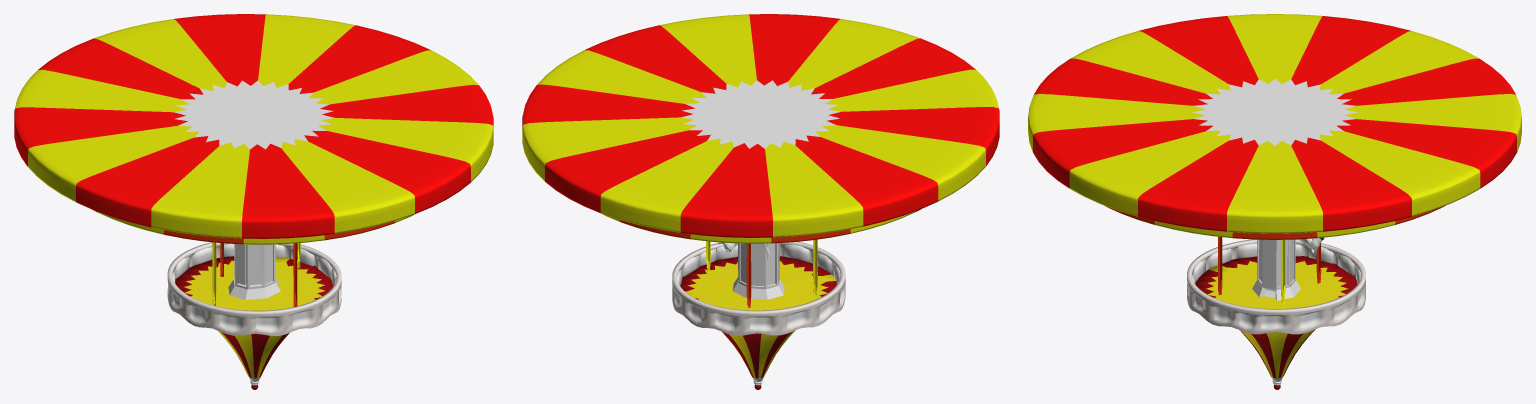
The model's file is carousel_reall.fbx.
3 renders of one model, left to right at view 1: azimuth 30°, elevation 25°; view 2: azimuth 150°, elevation 25°; view 3: azimuth 270°, elevation 25°, orthographic.
Visible parts, largest first — view 1: bottom stair, Cylinder.001, Cylinder.002, Cylinder, middle stair; view 2: bottom stair, Cylinder.001, Cylinder.002, Cylinder, middle stair; view 3: bottom stair, Cylinder.001, Cylinder.002, Cylinder, middle stair.
Boxes of the visible parts, x1,y1,x2,y2 form: bottom stair: (14,14,493,238); Cylinder.001: (167,242,341,335); Cylinder.002: (175,256,333,389); Cylinder: (228,244,280,299); middle stair: (93,210,413,244); bottom stair: (522,14,999,237); Cylinder.001: (672,241,845,335); Cylinder.002: (680,256,837,389); Cylinder: (732,243,784,299); middle stair: (600,209,920,243); bottom stair: (1028,14,1521,233); Cylinder.001: (1187,239,1365,334); Cylinder.002: (1195,256,1357,389); Cylinder: (1252,239,1300,300); middle stair: (1105,206,1444,239).
Size of the model in its own units: 4005 by 2563 by 4151.
